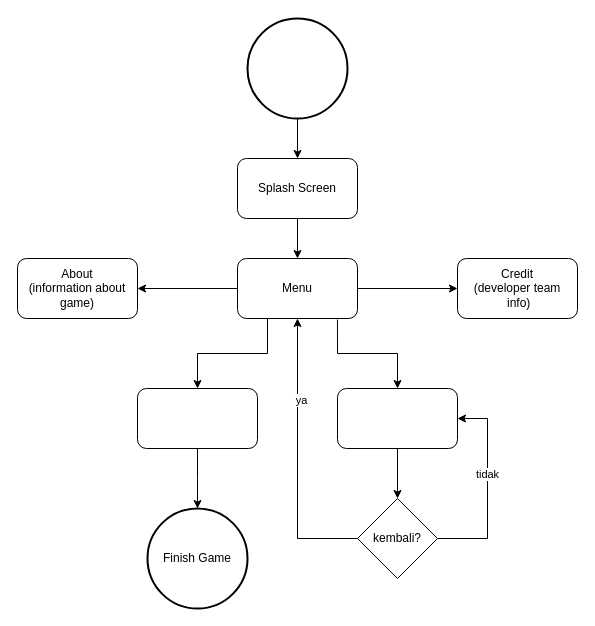
Some shapes in this 595 by 626 pixel diagram are drawn without their labels. The shapes that lost their labels are listed below. From the top down, each one's centre as x and y in pixels, then its label:
At point (297, 68): "Game Start".
At point (197, 418): "Quit (exit the game )".
At point (397, 418): "Game Play".
